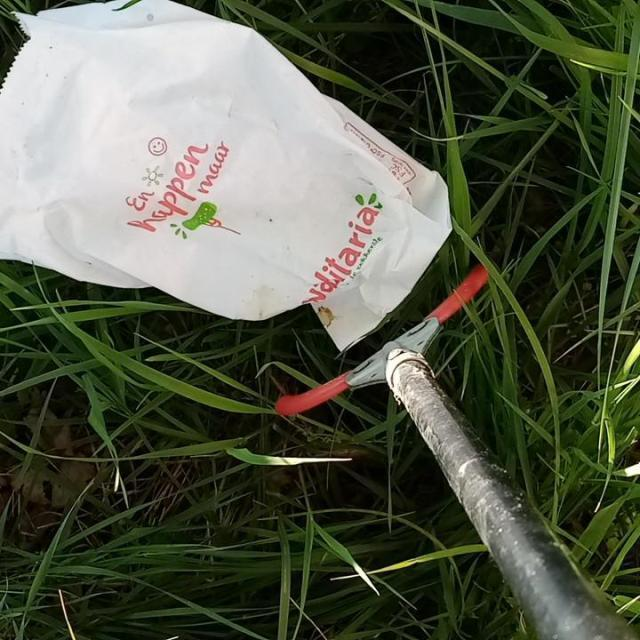Paper: (0, 0, 453, 355)
